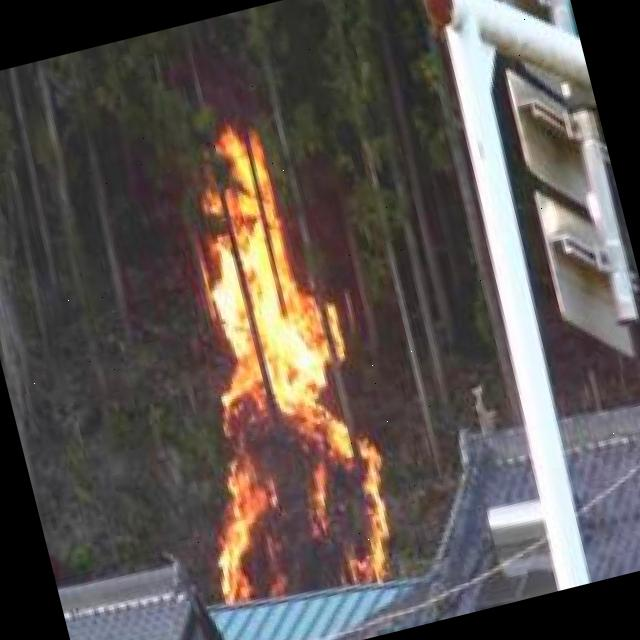fire: (121, 105, 412, 612)
